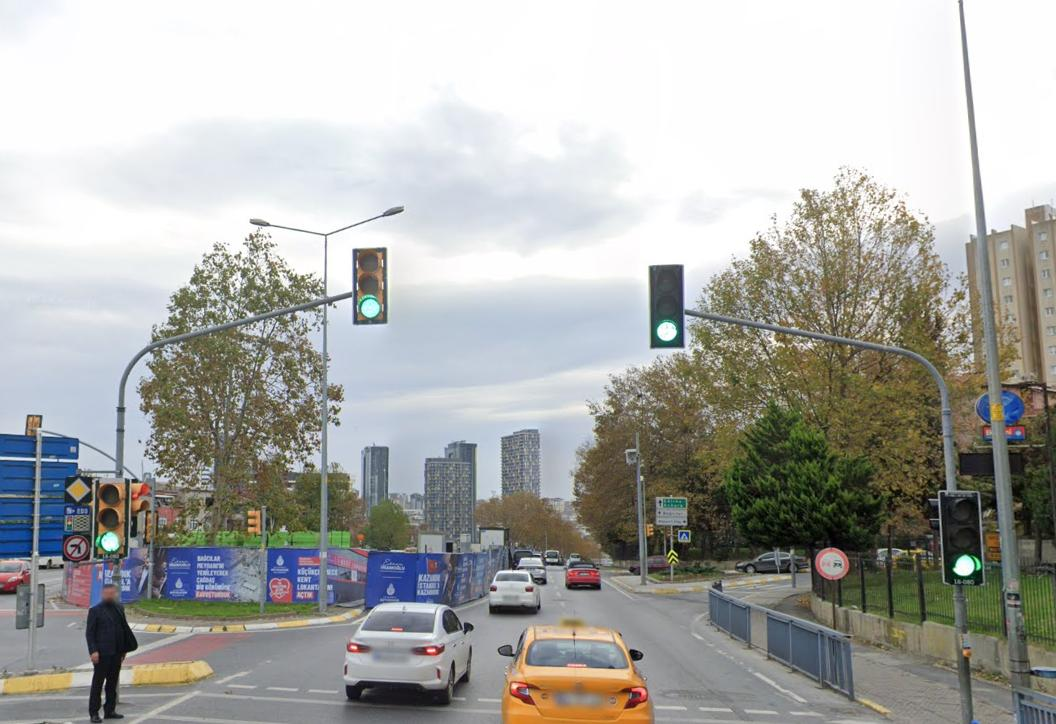greenlight: (943, 491, 989, 583), (651, 268, 684, 347), (355, 249, 386, 321), (98, 479, 126, 553)
leftturnsareforbidden: (63, 535, 90, 561)
